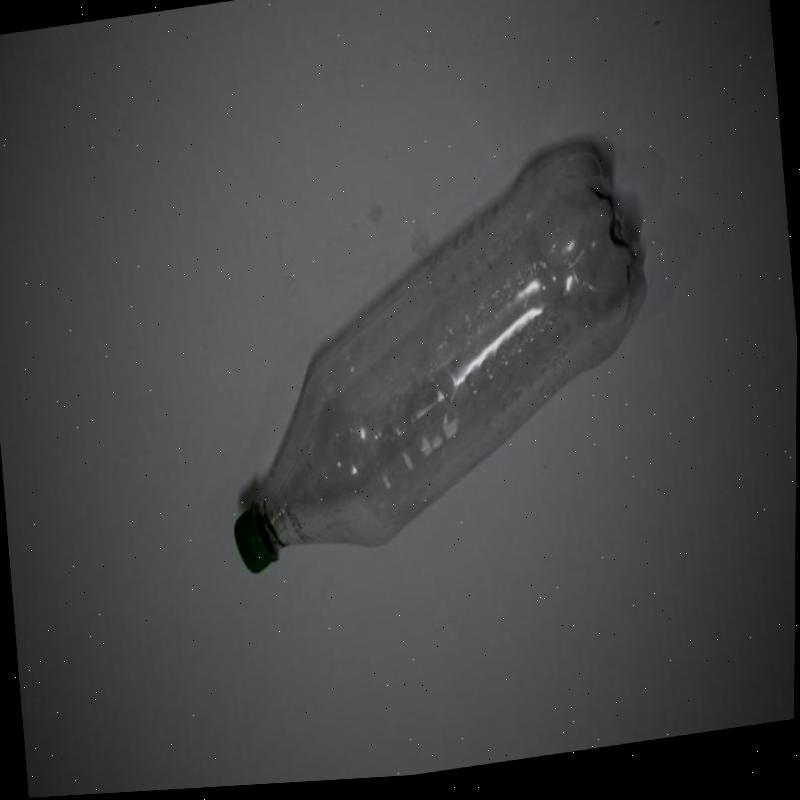botella: (203, 140, 668, 583)
